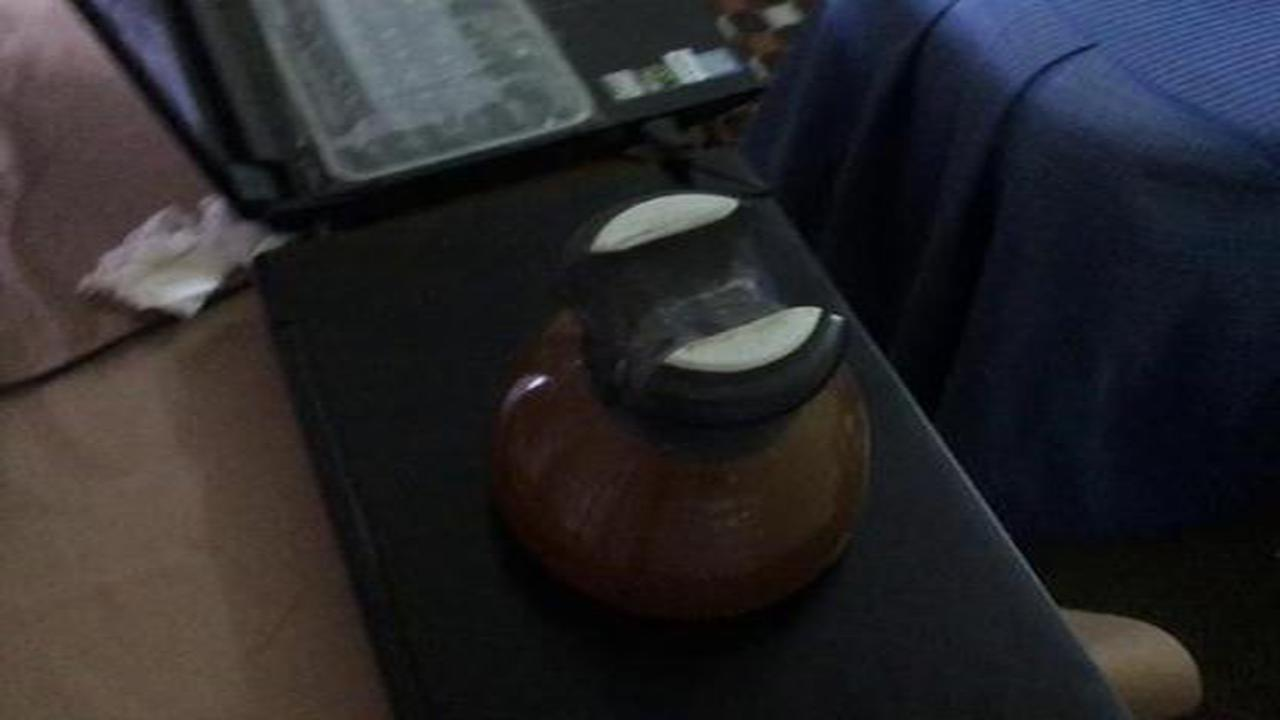insulator_pin: (465, 174, 896, 634)
